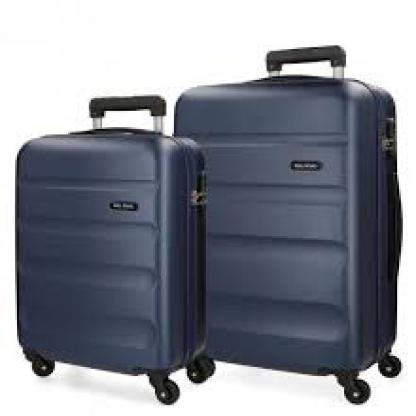maleta: (160, 65, 402, 405), (10, 129, 222, 409)
